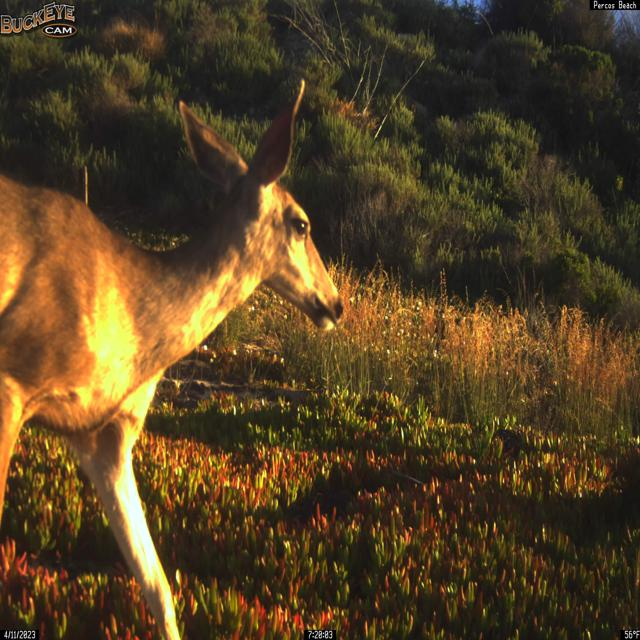deer: (0, 79, 346, 636)
